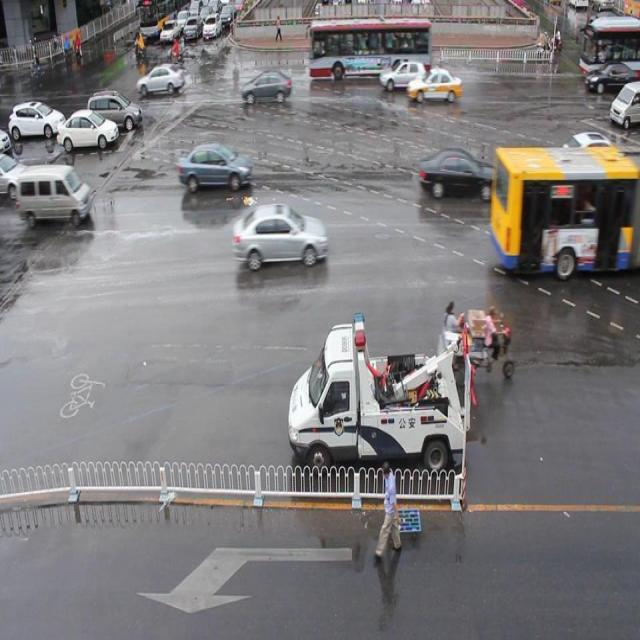BigCar: (488, 136, 640, 287), (305, 20, 440, 85), (584, 11, 640, 96)
car: (275, 325, 482, 501), (228, 196, 341, 289), (412, 130, 496, 208), (162, 123, 256, 186), (22, 160, 93, 237), (52, 108, 129, 156), (1, 98, 70, 146), (408, 61, 472, 112), (136, 53, 193, 109), (85, 94, 155, 135), (375, 52, 429, 95), (244, 67, 295, 102), (615, 74, 640, 138), (0, 151, 27, 207)
